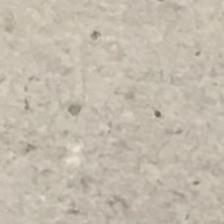Non_Crack: (22, 26, 223, 223)
